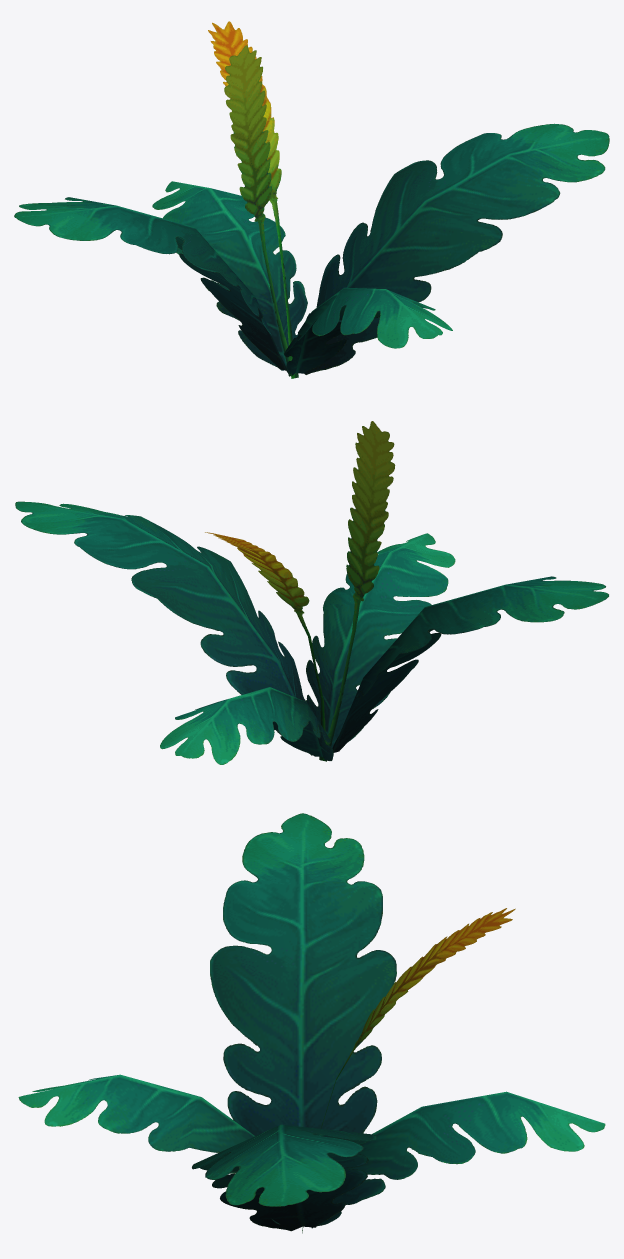
Rendered from cj_grass4.fbx.
3 renders of one model, top to bottom at view 1: azimuth 30°, elevation 25°; view 2: azimuth 150°, elevation 25°; view 3: azimuth 270°, elevation 25°, orthographic. The views are drawn at different scales.
Visible parts, largest first — view 1: yezi5, yezi6, yezi1, yezi2, yezi3, yezi4; view 2: yezi5, yezi2, yezi1, yezi6, yezi3, yezi4; view 3: yezi1, yezi5, yezi6, yezi2, yezi4.
Boxes of the visible parts, x1,y1,x2,y2 form: yezi5: [304, 123, 609, 374]; yezi6: [152, 181, 307, 370]; yezi1: [14, 197, 289, 375]; yezi2: [284, 287, 452, 375]; yezi3: [224, 45, 295, 376]; yezi4: [208, 21, 298, 378]; yezi5: [15, 501, 312, 755]; yezi2: [306, 533, 455, 747]; yezi1: [332, 576, 608, 752]; yezi6: [160, 687, 333, 764]; yezi3: [326, 421, 395, 746]; yezi4: [205, 532, 326, 761]; yezi1: [210, 813, 396, 1135]; yezi5: [192, 1124, 376, 1231]; yezi6: [311, 1091, 605, 1228]; yezi2: [18, 1074, 280, 1224]; yezi4: [302, 908, 515, 1233].
Bounding box in the file's own units: 4722 × 2665 × 3577.
